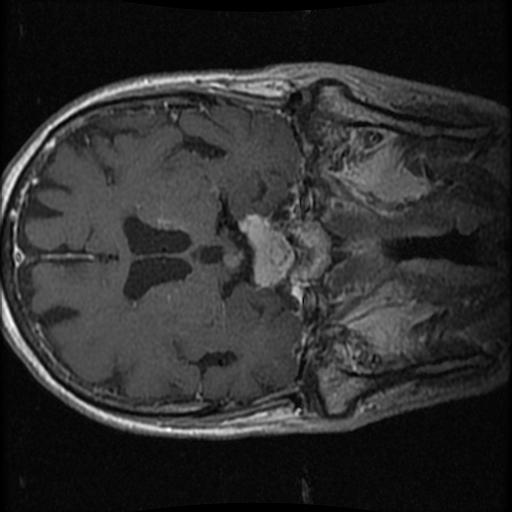pituitary tumour: (237, 213, 295, 288)
